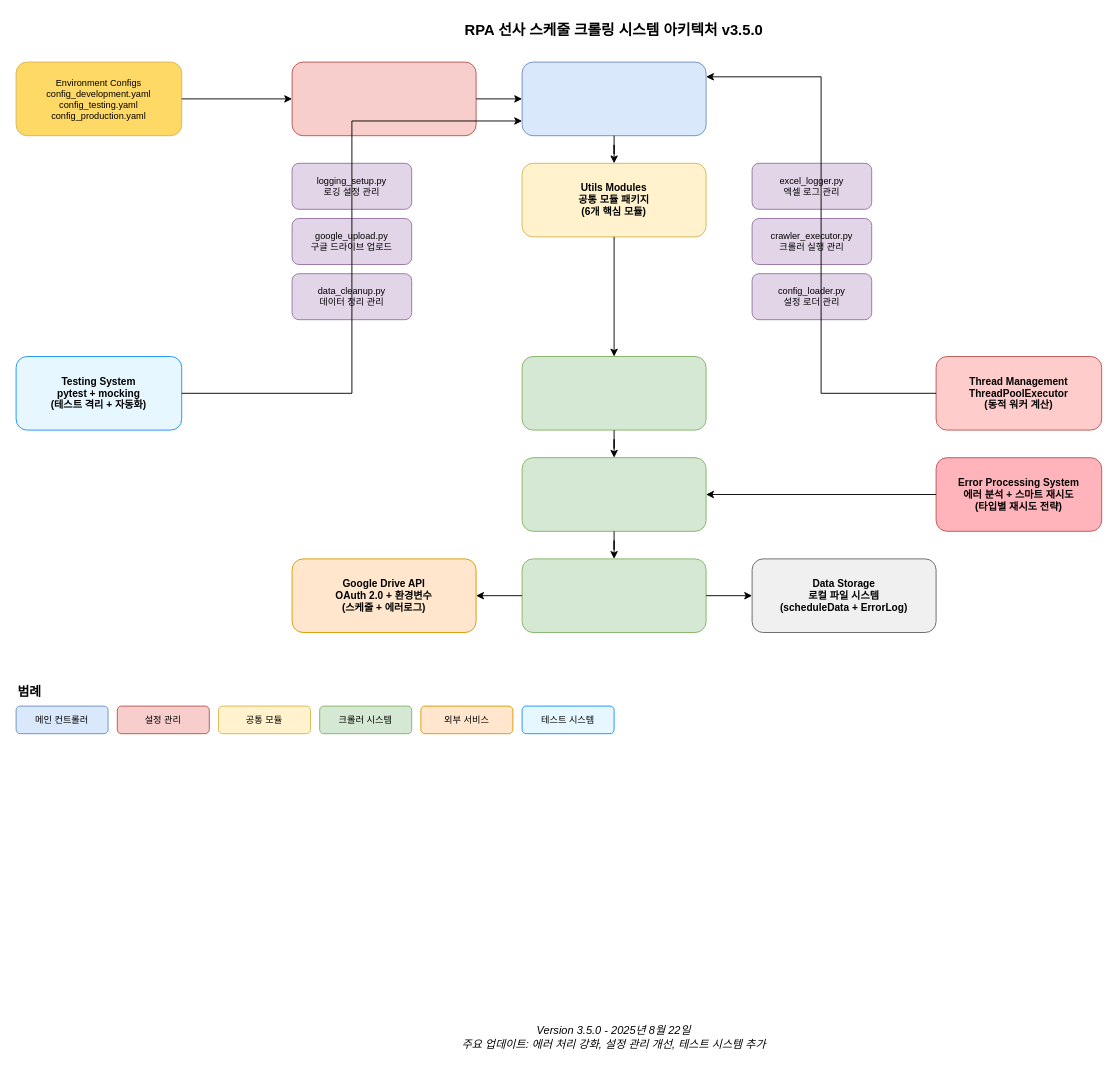
Some shapes in this 1118 by 1071 pixel diagram are drawn without their labels. The shapes that lost their labels are listed below. From the top down, each one's box as (x1, y1, x2, y2) in pixels, then its label:
(291, 61, 476, 136): Config Management 환경별 설정 시스템 (Development/Testing/Production)
(521, 61, 706, 136): main2_lightweight.py 경량화된 메인 컨트롤러 (모듈화 + 스레드 + 설정관리)
(521, 356, 706, 430): CrawlerFactory 동적 크롤러 생성 (팩토리 메서드 패턴)
(521, 457, 706, 531): ParentsClass (base.py) 공통 기능 + 에러 처리 강화 (스마트 재시도 + 에러 분석)
(521, 558, 706, 632): Individual Crawlers 15개 선사별 크롤러 (SITC, EVERGREEN, COSCO...)
